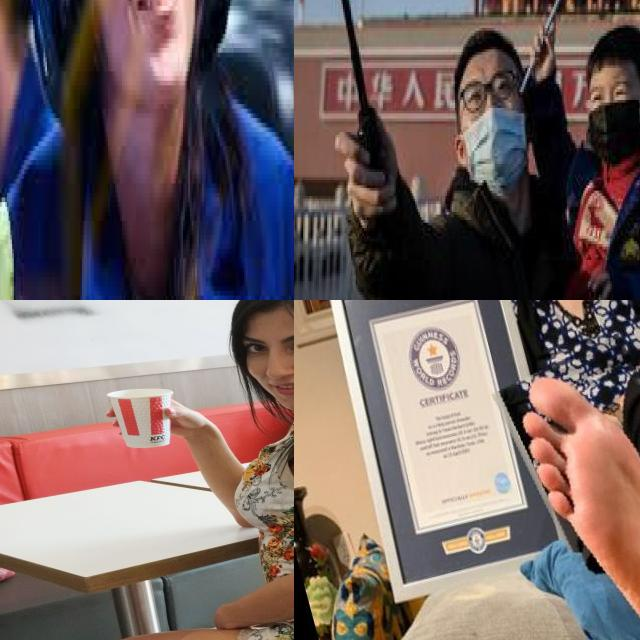Barefoots: (505, 365, 640, 640)
Ear-protection: (26, 0, 94, 132), (197, 0, 233, 85)
No_Glasses: (586, 72, 635, 105)
face_mask: (460, 60, 527, 191), (586, 73, 640, 158)
glasses: (461, 69, 516, 115)
hand_noglove: (332, 123, 404, 224)
head_nohelmet: (447, 17, 522, 71), (578, 30, 640, 78)
person: (314, 25, 559, 300), (548, 0, 640, 300)
